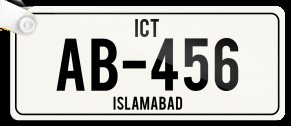4: (150, 37, 179, 92)
5: (183, 36, 211, 92)
6: (212, 36, 241, 92)
A: (56, 37, 86, 93), (166, 94, 175, 111), (131, 94, 139, 110), (150, 94, 158, 110)
B: (88, 35, 119, 93), (158, 94, 167, 111)
C: (139, 17, 150, 38)
D: (174, 94, 182, 111)
I: (133, 18, 139, 37), (111, 95, 117, 111)
L: (123, 94, 132, 110)
M: (139, 94, 150, 111)
S: (116, 94, 124, 111)
T: (149, 15, 160, 38)
